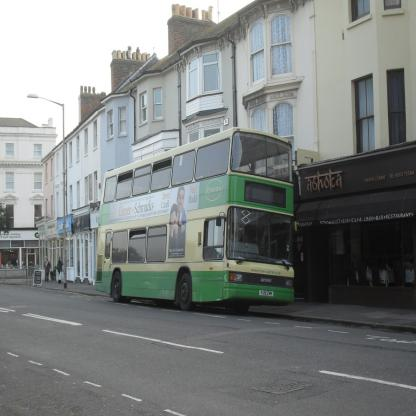Bus: (93, 124, 294, 314)
